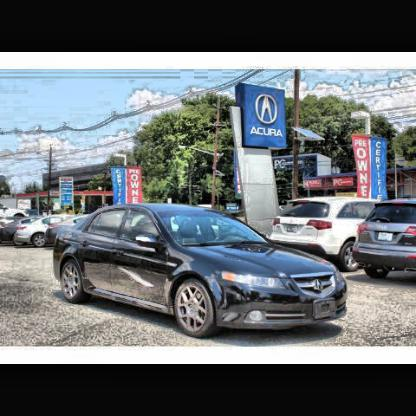Acura TL Type-S 2008: (55, 206, 347, 339)
